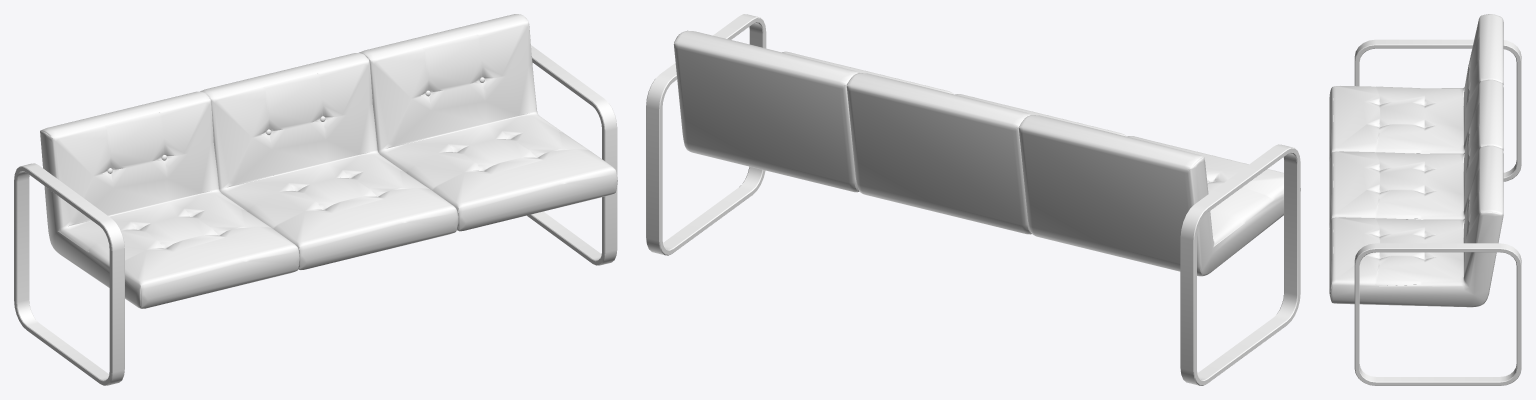
The model's file is Sofa-Varieta-reduced.fbx.
The picture shows the model from 3 angles, left to right: view 1: azimuth 30°, elevation 25°; view 2: azimuth 150°, elevation 25°; view 3: azimuth 270°, elevation 25°; orthographic projection. The views are drawn at different scales.
Parts seen in each view (by area): view 1: Rectangle028; view 2: Rectangle028; view 3: Rectangle028.
Part boxes in pixels (x1=…): Rectangle028: x1=14, y1=14, x2=617, y2=385; Rectangle028: x1=646, y1=14, x2=1300, y2=385; Rectangle028: x1=1329, y1=14, x2=1521, y2=385.
Bounding box in the file's own units: 361 × 137 × 140.
Materials: 2 (1 with a texture image).
